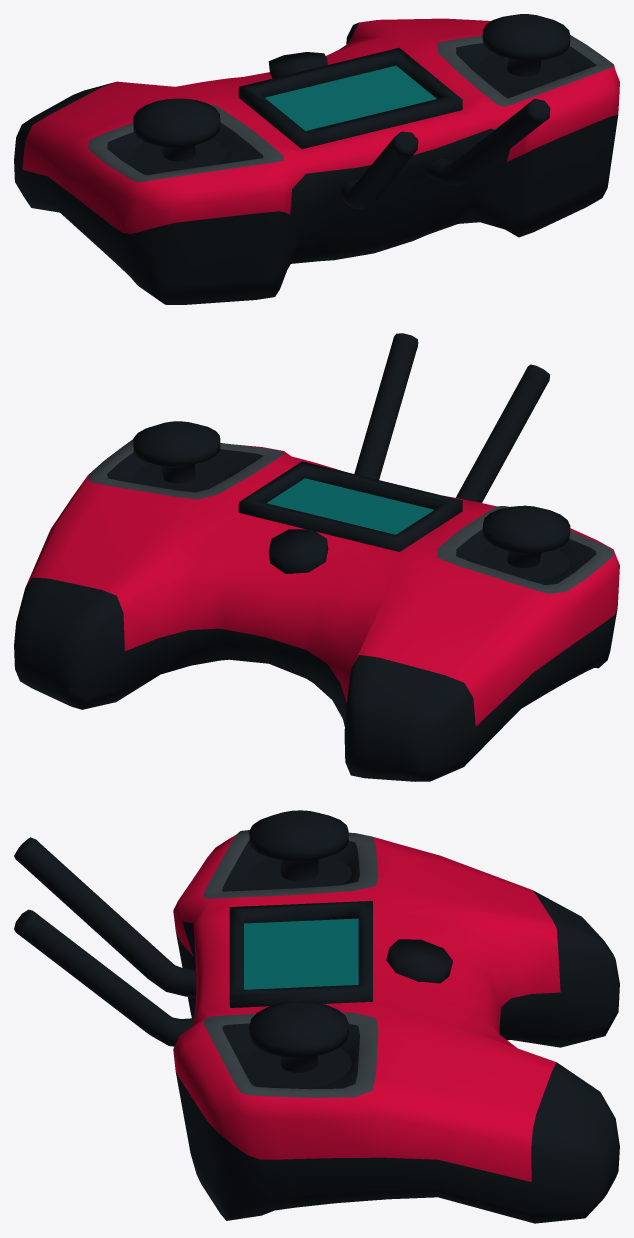
File: Mini_Drone_Set_1_Red_Controller_00.fbx
3 renders of one model, top to bottom at view 1: azimuth 30°, elevation 25°; view 2: azimuth 150°, elevation 25°; view 3: azimuth 270°, elevation 25°, orthographic. The views are drawn at different scales.
Visible parts, largest first — view 1: Drone.Controller_2; view 2: Drone.Controller_2; view 3: Drone.Controller_2.
Part boxes in pixels (left/top/right/bottom): Drone.Controller_2: left=14, top=14, right=619, bottom=304; Drone.Controller_2: left=14, top=333, right=619, bottom=781; Drone.Controller_2: left=14, top=810, right=619, bottom=1223.
Bounding box in the file's own units: 0.2865 × 0.117 × 0.2677.
Materials: 1 (1 with a texture image).
